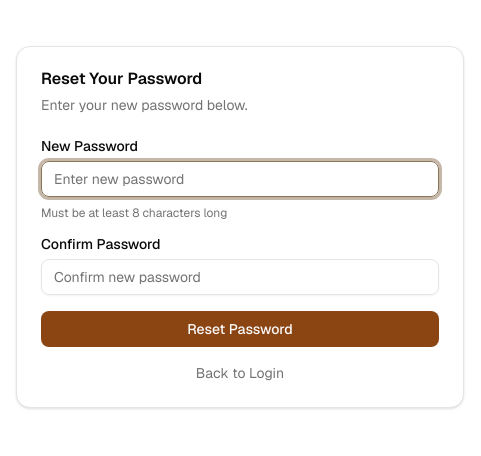
Scenario: ResetPasswordPage › should display error on reset failure
Expected: the text "Reset Your Password" is shown, [41,68,202,89]
Type "NewPass123!" into the password field labelled "New Password".
click(240, 179); type("NewPass123!")  # box [41,161,439,197]
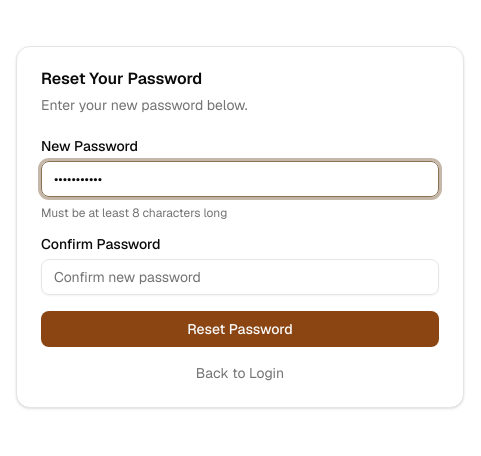
Type "NewPass123!" into the password field labelled "Confirm Password".
click(240, 277); type("NewPass123!")  # box [41,259,439,295]
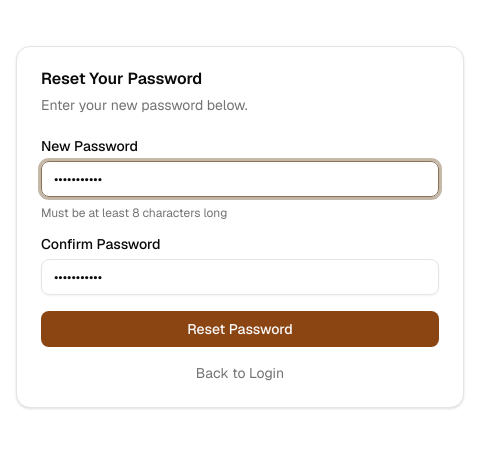
Click the button "Reset Password".
click(240, 329)  # box [41,311,439,347]
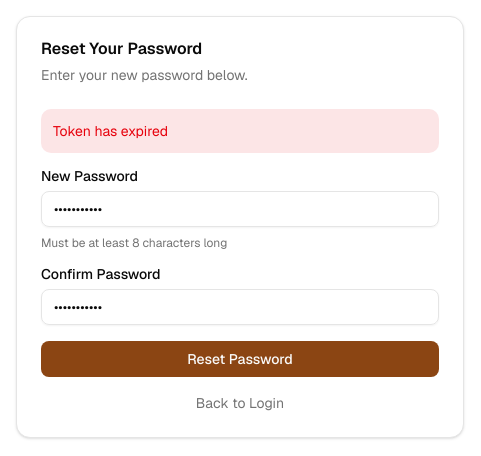
Expected: the text "Token has expired" is shown, [41,109,439,153]
